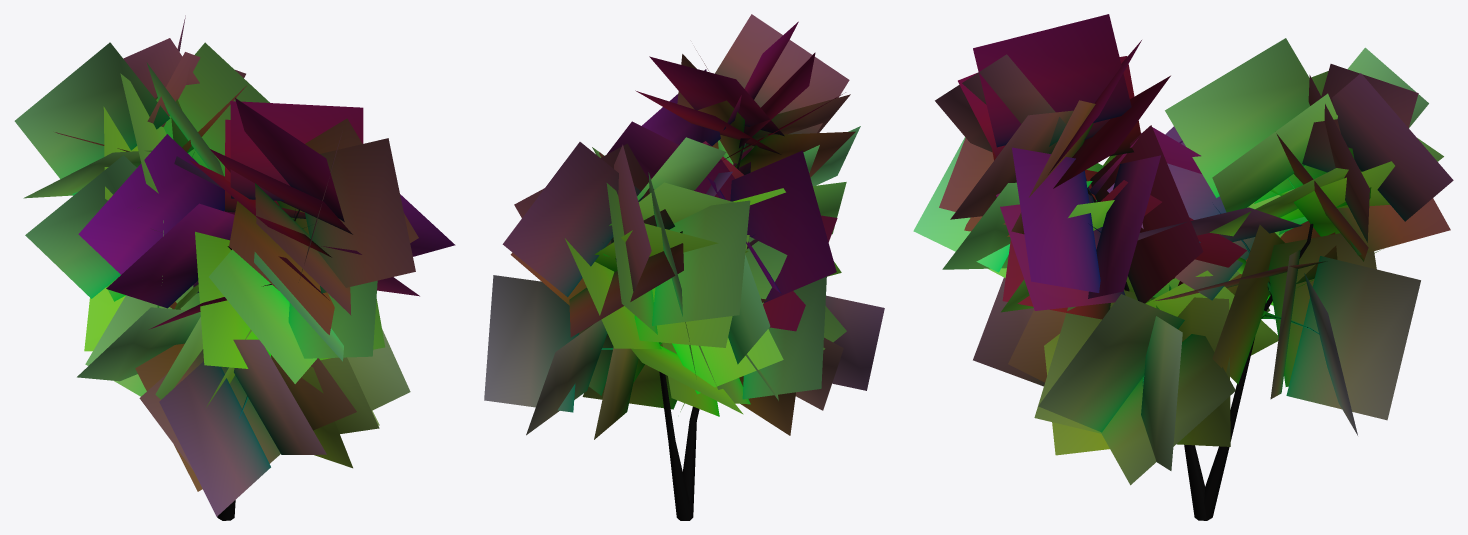
The model's file is URP_P15_Tree_4_LOD_3.fbx.
The picture shows the model from 3 angles, left to right: view 1: azimuth 30°, elevation 25°; view 2: azimuth 150°, elevation 25°; view 3: azimuth 270°, elevation 25°; orthographic projection. The views are drawn at different scales.
Visible parts, largest first — view 1: Tree_4_LOD_3; view 2: Tree_4_LOD_3; view 3: Tree_4_LOD_3.
Boxes of the visible parts, bbox=[...] form: Tree_4_LOD_3: bbox=[14, 15, 455, 520]; Tree_4_LOD_3: bbox=[484, 14, 884, 520]; Tree_4_LOD_3: bbox=[913, 14, 1453, 520].
Size of the model in its own units: 477 by 707 by 714.
